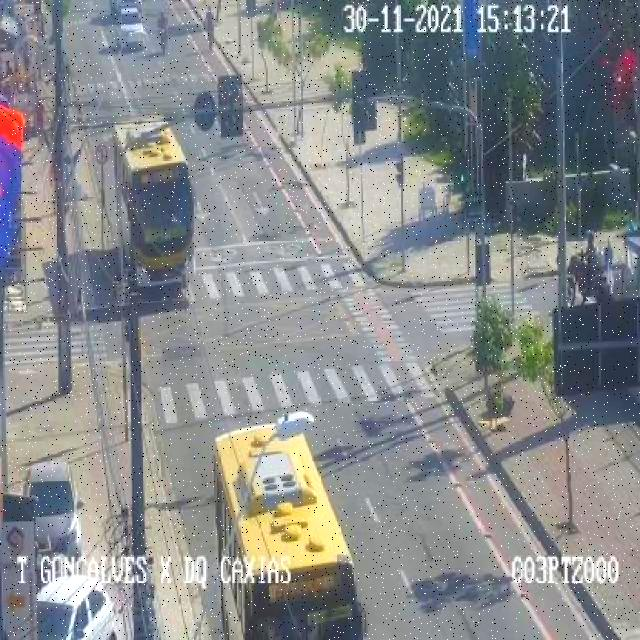bicycle: (204, 5, 213, 50)
bus: (214, 422, 360, 640), (112, 114, 196, 286)
car: (24, 462, 81, 572), (35, 574, 117, 640), (115, 6, 143, 48)
motorbike: (565, 230, 607, 306), (50, 152, 59, 214), (34, 97, 46, 143), (157, 8, 168, 54), (22, 40, 28, 74)
